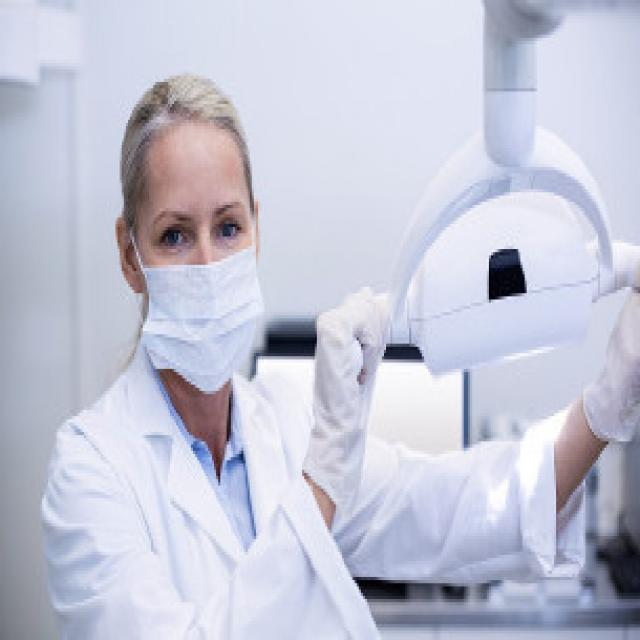mask: (138, 137, 256, 386)
